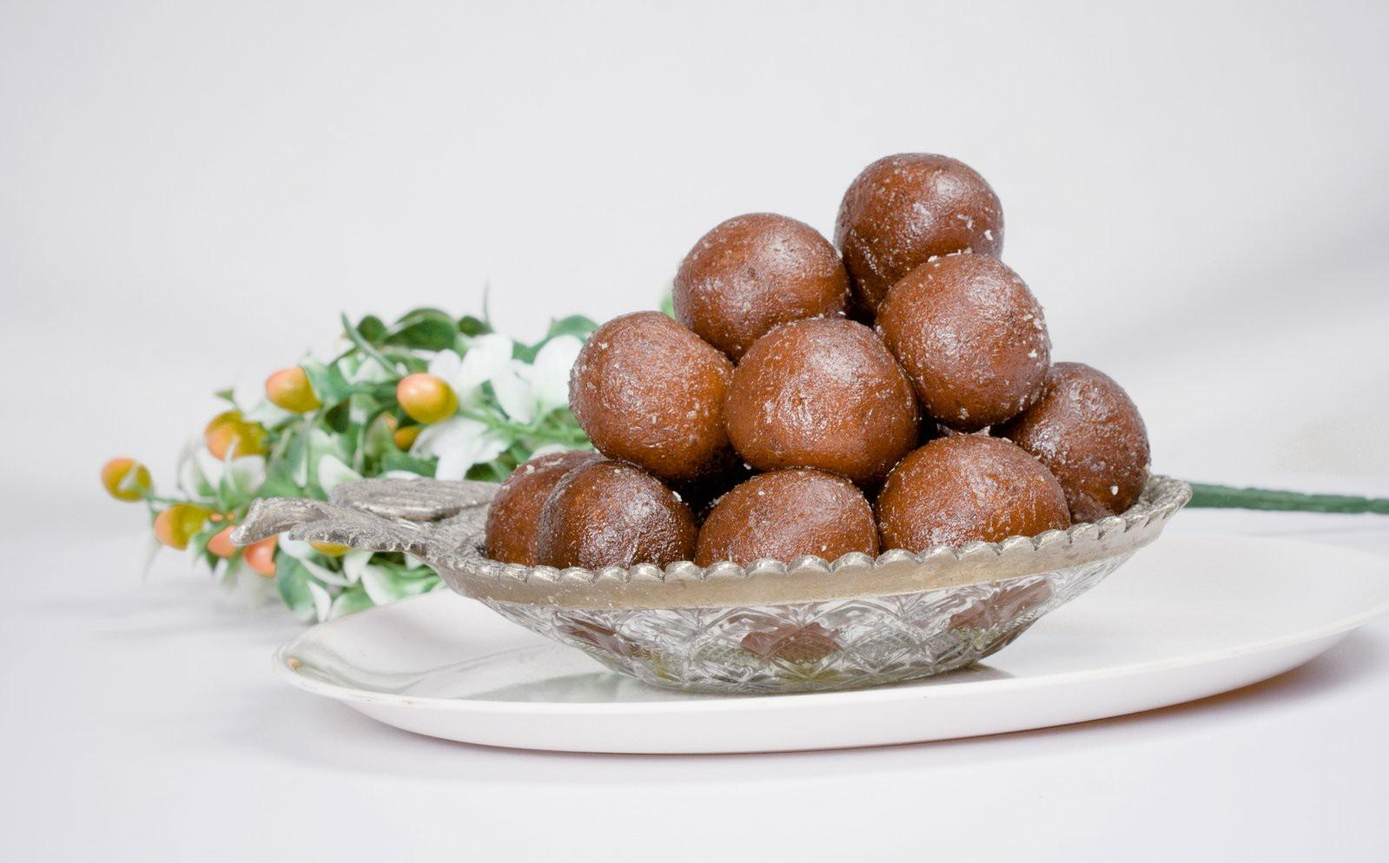GulabJamun: (877, 254, 1051, 423), (568, 313, 743, 473), (728, 313, 921, 458), (833, 151, 1008, 307), (989, 362, 1151, 521), (672, 208, 849, 349), (878, 432, 1071, 560), (692, 471, 882, 563), (536, 460, 693, 571), (485, 458, 584, 563)
